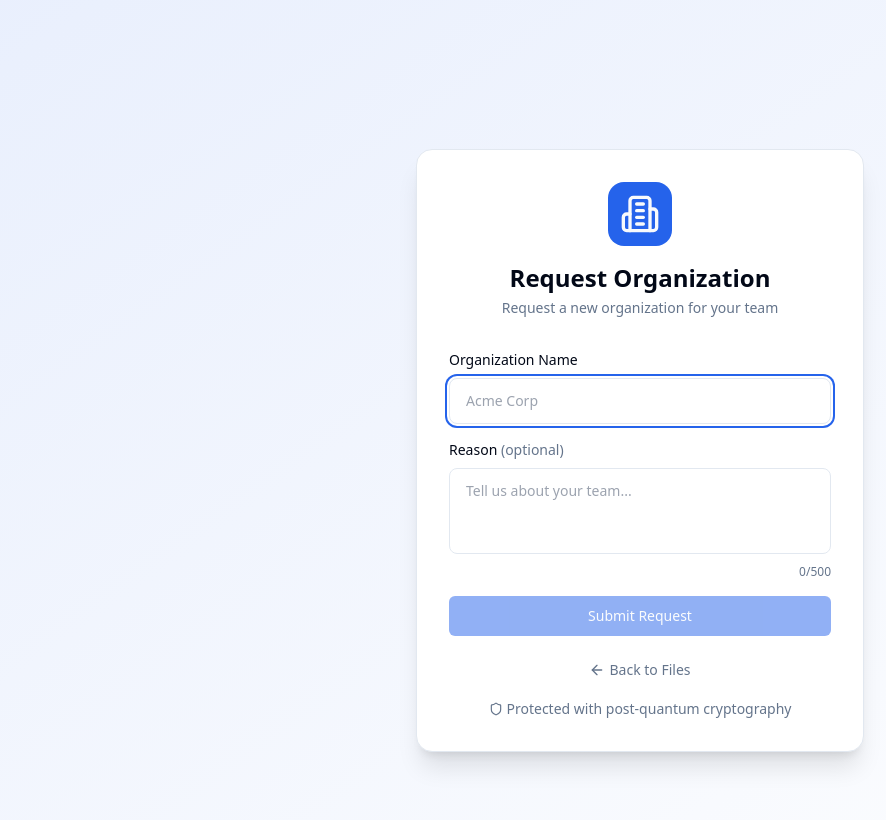
Scenario: TenantRequestPage › error handling › should clear error when user types in name field
Type "Test Org" into the field with placeholder "Acme Corp" at point(640, 400), box [449, 378, 831, 424]
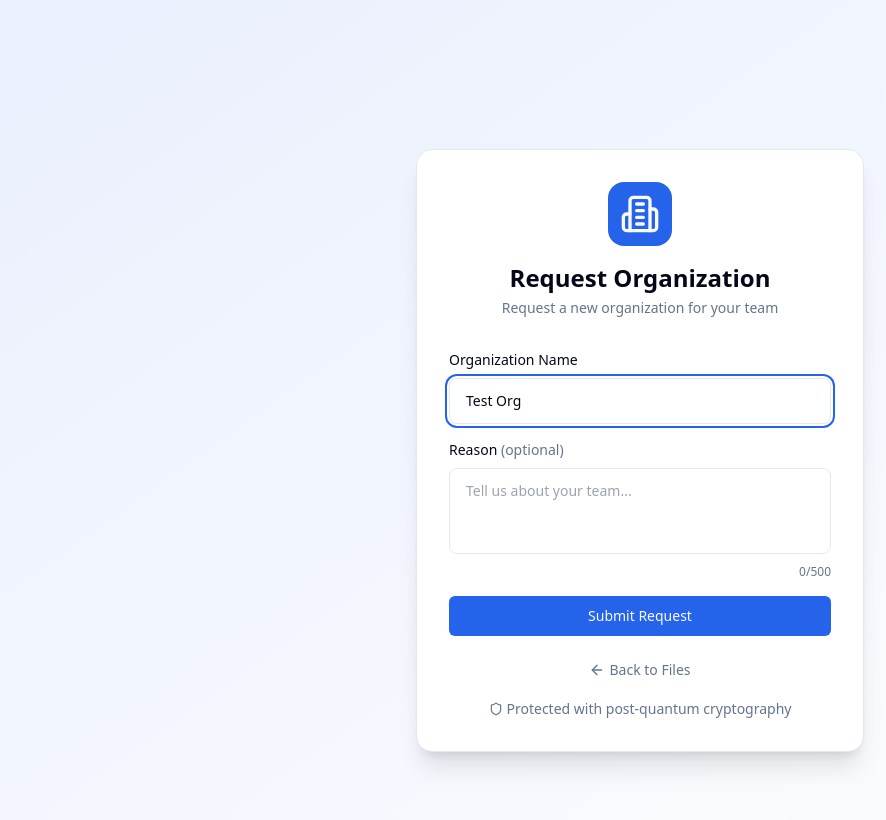
Click the button "Submit Request" at point(640, 616), box [449, 596, 831, 636]
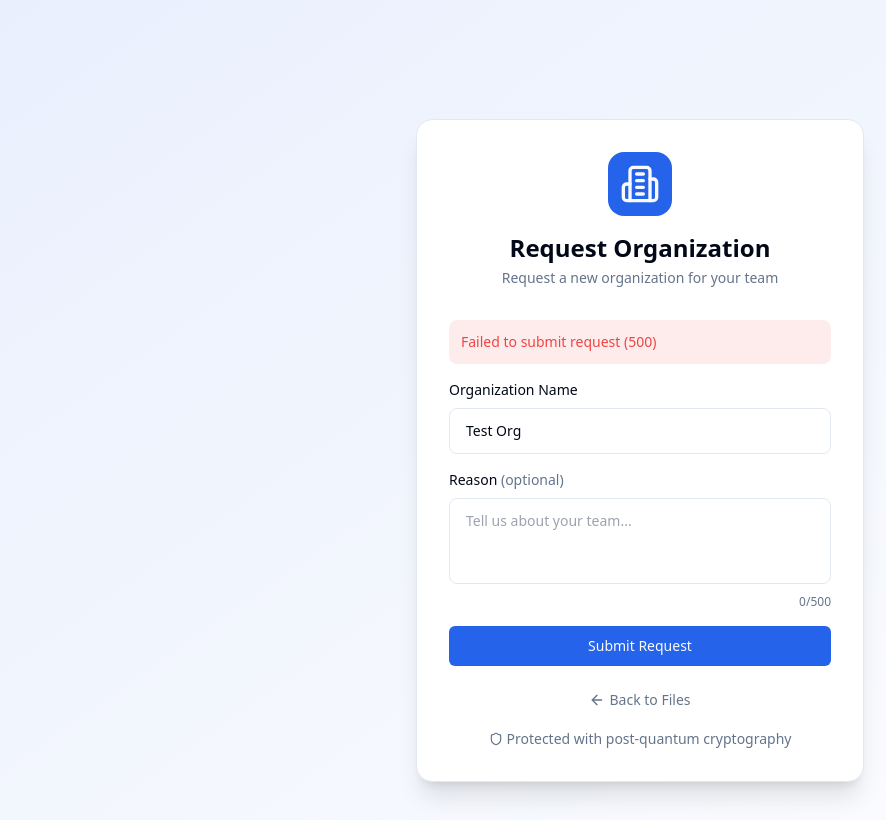
Expected: the text "Failed to submit request (500)" is shown, [449, 320, 831, 364]
// Type again to clear error
Type " Updated" into the field with placeholder "Acme Corp" at point(640, 430), box [449, 408, 831, 454]
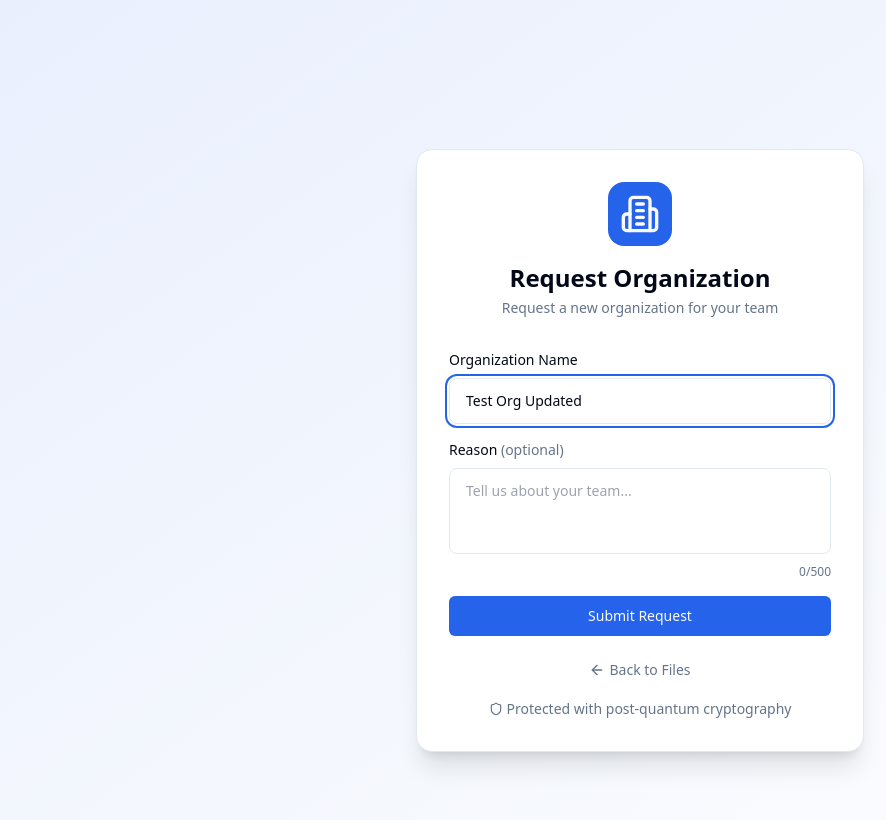
Expected: the text "Failed to submit request (500)" is gone
